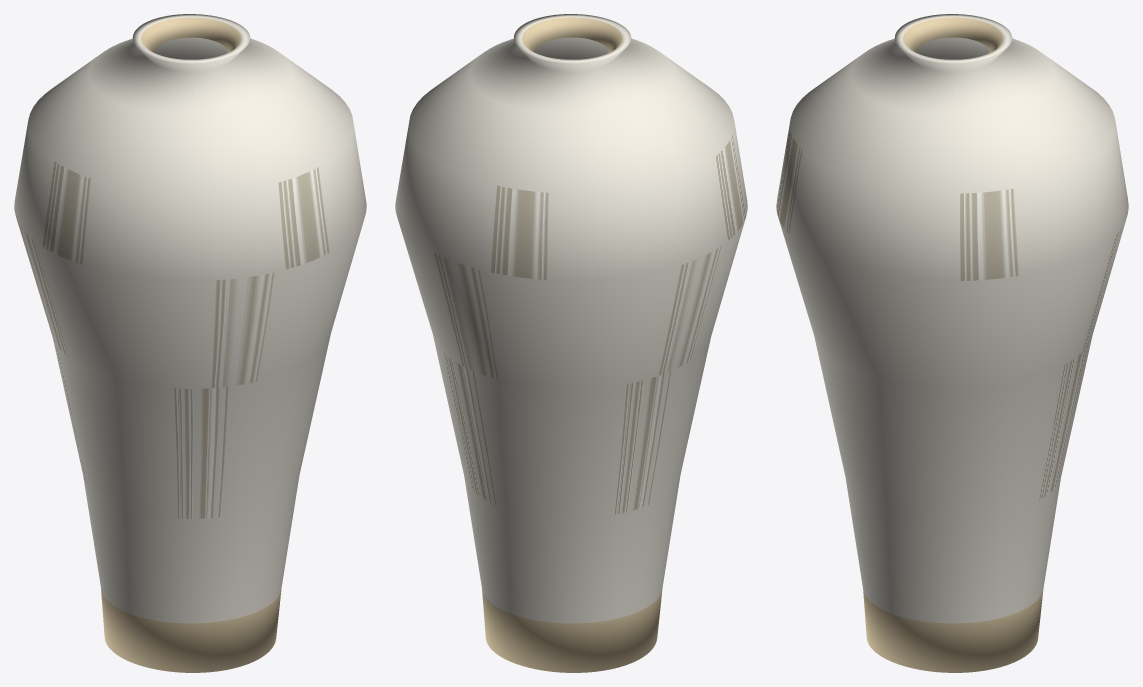
Rendered from SongDingYao_PlumVase_Master.glb.
3 renders of one model, left to right at view 1: azimuth 30°, elevation 25°; view 2: azimuth 150°, elevation 25°; view 3: azimuth 270°, elevation 25°, orthographic.
Visible parts, largest first — view 1: SongDingYao_PlumVase_Master; view 2: SongDingYao_PlumVase_Master; view 3: SongDingYao_PlumVase_Master.
Part boxes in pixels (x1,y1,x2,y2): SongDingYao_PlumVase_Master: (14,14,366,672); SongDingYao_PlumVase_Master: (395,14,747,672); SongDingYao_PlumVase_Master: (776,14,1128,672).
Size of the model in its own units: 0.156 by 0.292 by 0.156.
Materials: 1 (1 with a texture image).
